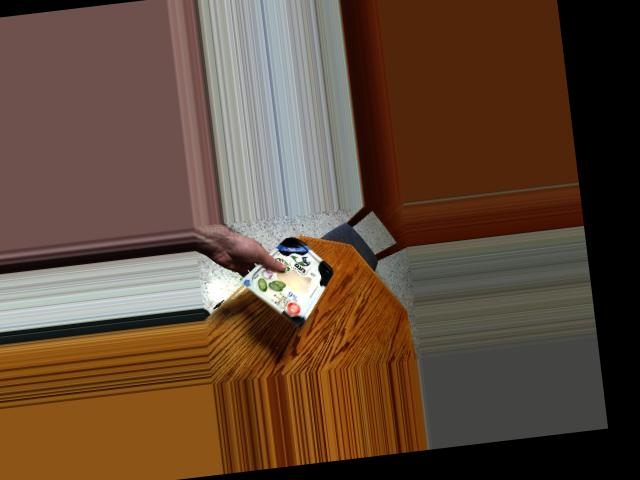cheese: (252, 233, 329, 320)
